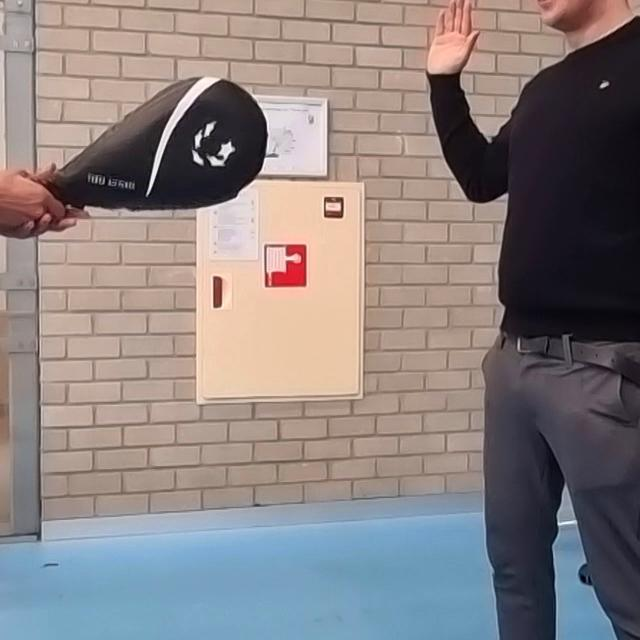paddle: (38, 75, 270, 210)
